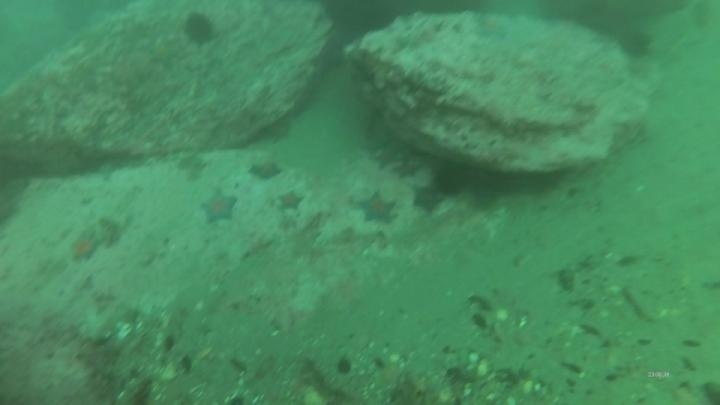echinus: (318, 1, 402, 44), (429, 161, 471, 200), (615, 27, 655, 62), (181, 11, 218, 48), (464, 182, 503, 214)
starfish: (353, 188, 400, 228), (198, 188, 240, 227), (66, 229, 104, 266), (370, 356, 408, 392), (471, 12, 514, 43), (144, 34, 181, 69), (410, 182, 447, 216), (246, 157, 285, 183), (274, 188, 306, 215)
